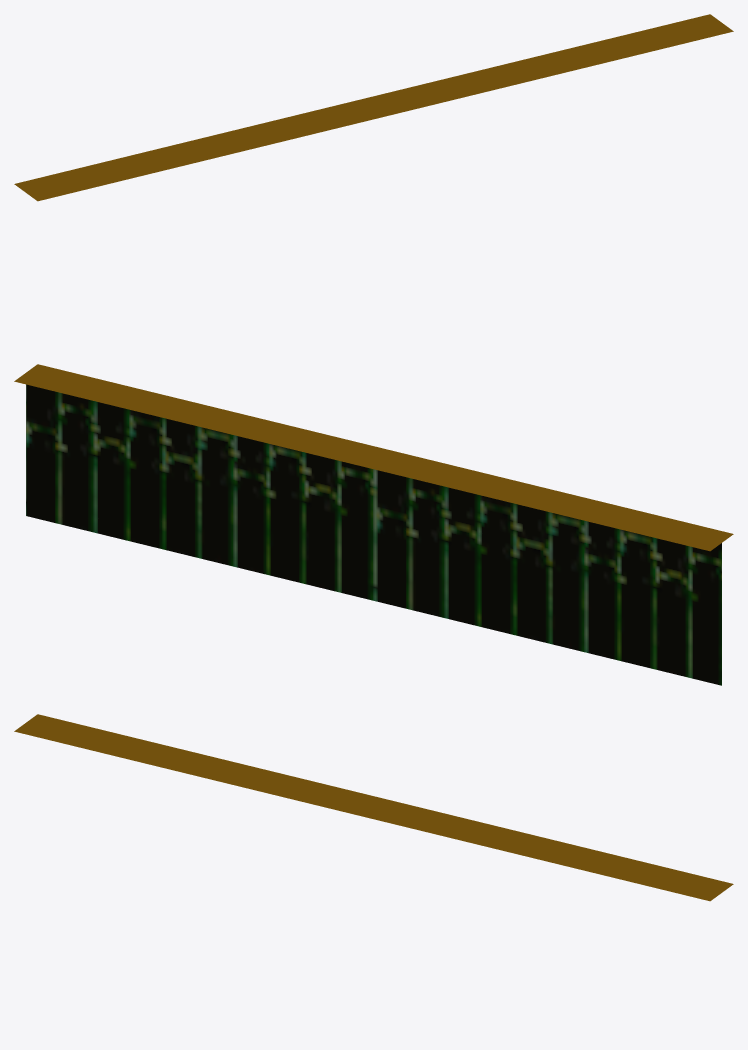
The model's file is Geländer1.5 [GrünesMetall]_614.glb.
3 renders of one model, top to bottom at view 1: azimuth 30°, elevation 25°; view 2: azimuth 150°, elevation 25°; view 3: azimuth 330°, elevation 25°, orthographic.
Visible parts, largest first — view 1: pPlaneShape228; view 2: pPlaneShape227, pPlaneShape228; view 3: pPlaneShape228.
Part boxes in pixels (x1,y1,x2,y2): pPlaneShape228: (14, 14, 733, 201); pPlaneShape227: (26, 384, 721, 685); pPlaneShape228: (14, 364, 733, 551); pPlaneShape228: (14, 714, 733, 901).
Size of the model in its own units: 0.4125 by 0.081 by 0.0243.
2 materials, 1 textured.
